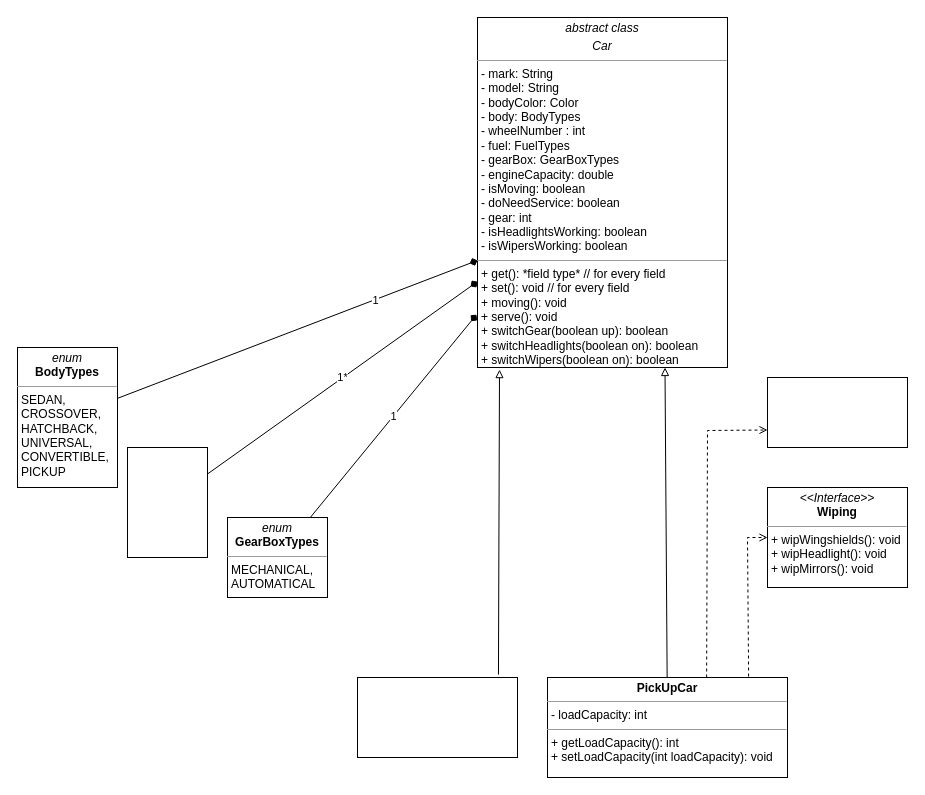
The diagram is 925 pixels wide and 795 high, and some of its shapes have lost their labels. The centre of each missing label's shape, as x and y in pixels:
"<<Interface>> FuelStation + fuelLoad(): void" belongs at (837,412).
"enum FuelTypes PETROL, GASOLINE, DISEL, ELECTRO" belongs at (167,502).
"TricycleCar + fly(): void + moving(): void + TricycleCar(): TricycleCar" belongs at (437,717).
